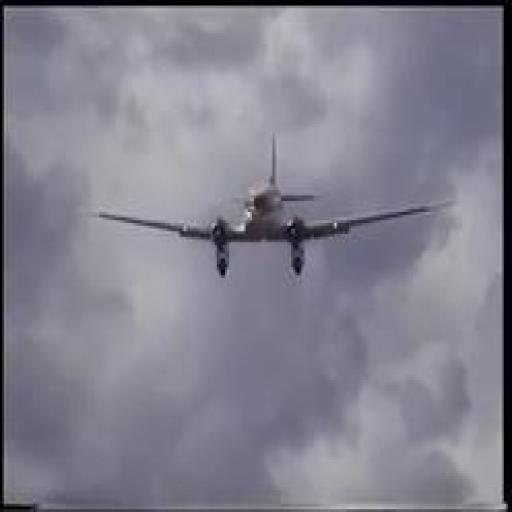aircraft: (96, 130, 449, 275)
